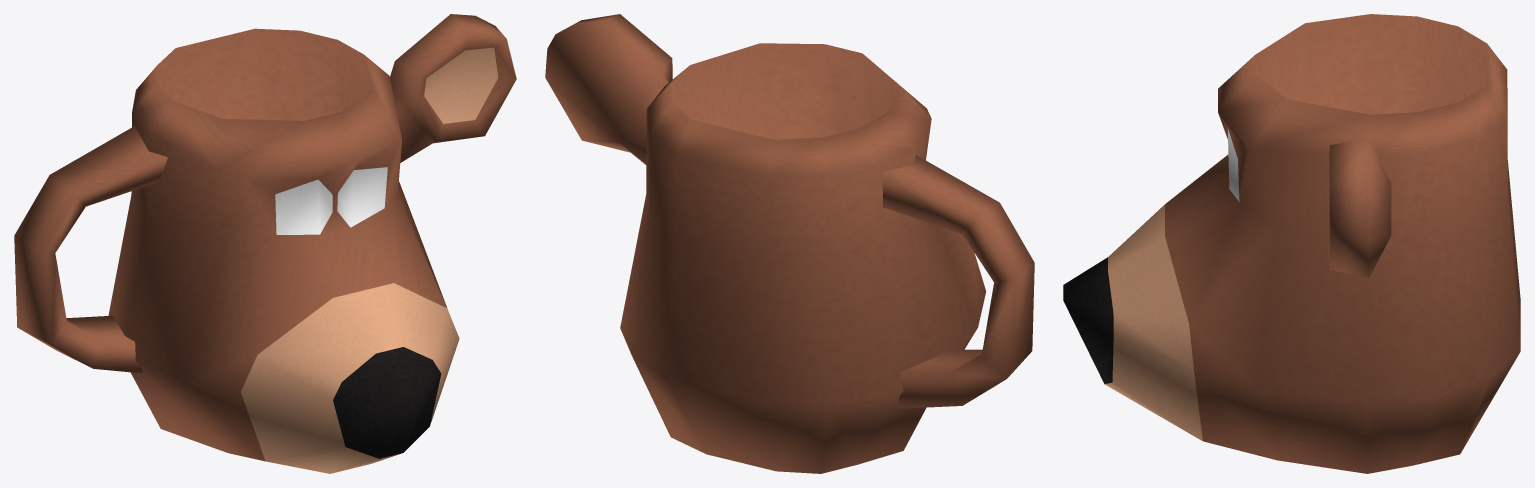
Rendered from FregitMug LOD2.fbx.
3 views of the same model, side by side, from view 1: azimuth 30°, elevation 25°; view 2: azimuth 150°, elevation 25°; view 3: azimuth 270°, elevation 25° (orthographic). The views are drawn at different scales.
Parts seen in each view (by area): view 1: Circle.002; view 2: Circle.002; view 3: Circle.002.
Part boxes in pixels (<box>): Circle.002: <box>14,14,516,473</box>; Circle.002: <box>545,14,1034,473</box>; Circle.002: <box>1063,14,1520,473</box>.
Bounding box in the file's own units: 23.74 × 17.1 × 18.28.
